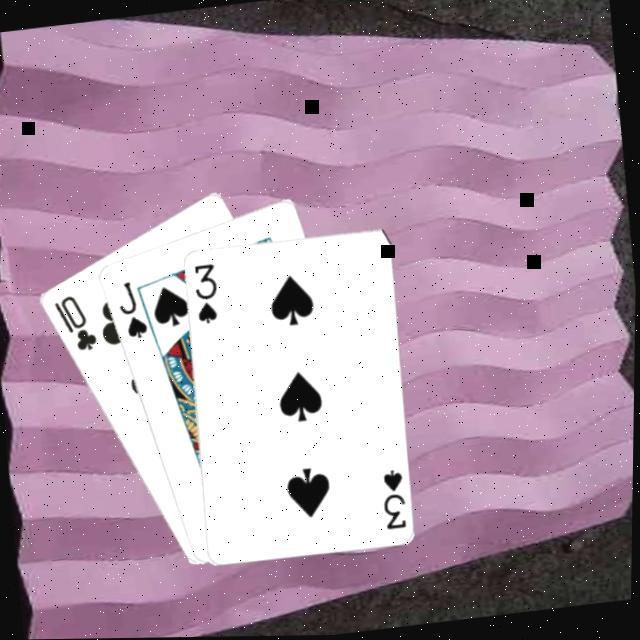10C: (50, 288, 102, 356)
3S: (188, 258, 224, 326), (378, 465, 412, 532)
JS: (114, 276, 152, 342)
